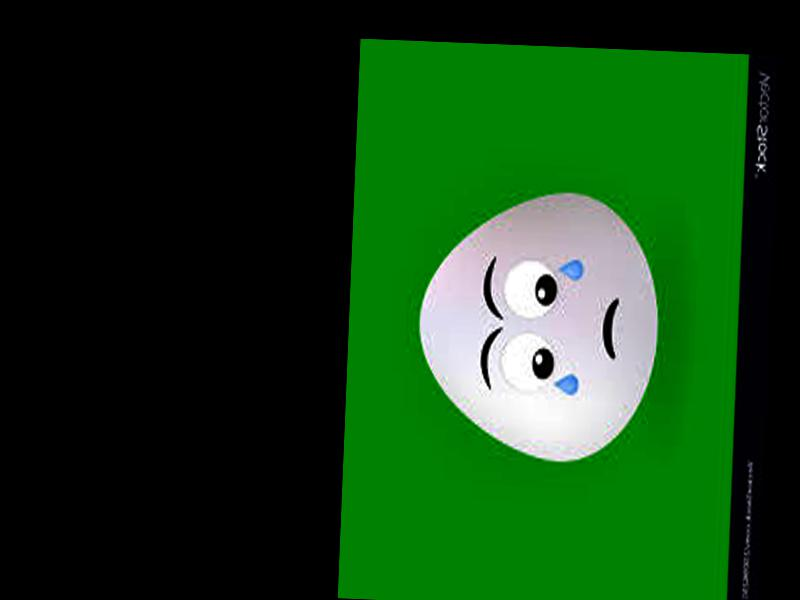Eggs: (416, 184, 663, 463)
